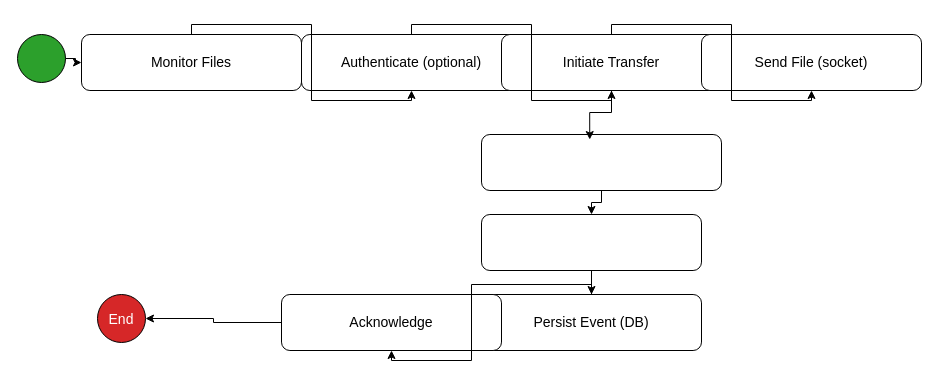
Image size: 939x386. Some labels were removed from this diagram. The box of each missing label's shape, as (x1, y1, x2, y2) in pixels:
Risk Analysis: (480, 214, 702, 270)
Server Receives File: (480, 134, 722, 190)
Start: (16, 34, 66, 82)
